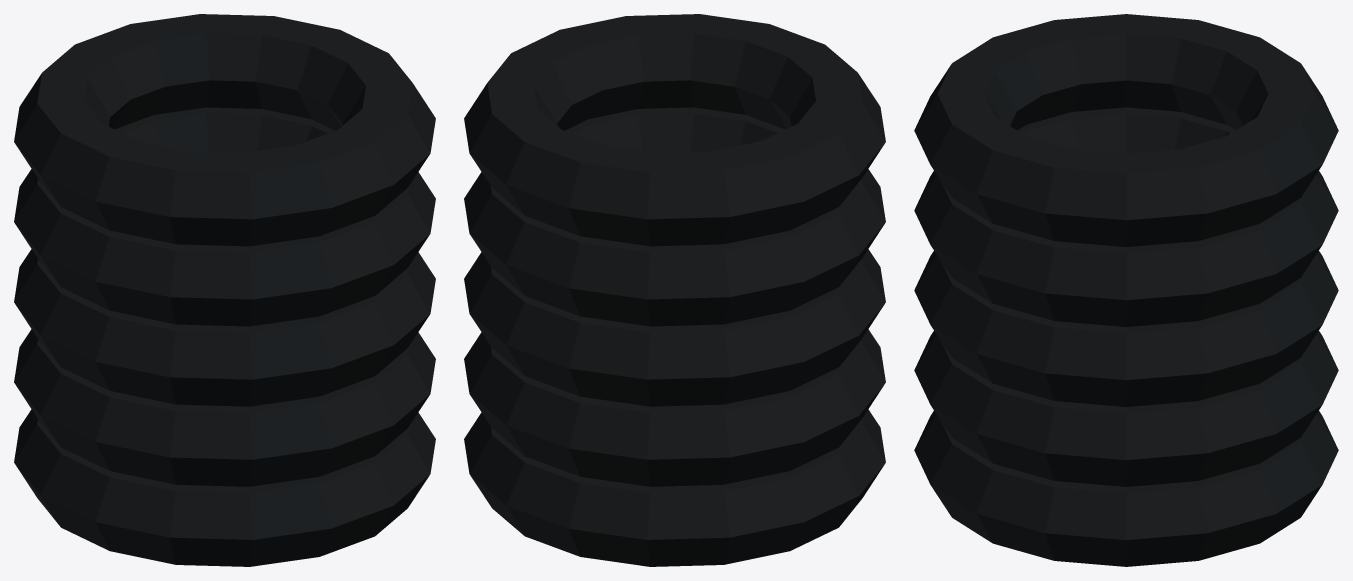
The model's file is TyreStack.fbx.
3 renders of one model, left to right at view 1: azimuth 30°, elevation 25°; view 2: azimuth 150°, elevation 25°; view 3: azimuth 270°, elevation 25°, orthographic.
Parts seen in each view (by area): view 1: TyreStack; view 2: TyreStack; view 3: TyreStack.
Part boxes in pixels (x1=…): TyreStack: x1=14, y1=14, x2=435, y2=566; TyreStack: x1=464, y1=14, x2=885, y2=566; TyreStack: x1=914, y1=14, x2=1338, y2=566.
Size of the model in its own units: 77 by 78.72 by 77.
Materials: 1 (1 with a texture image).
